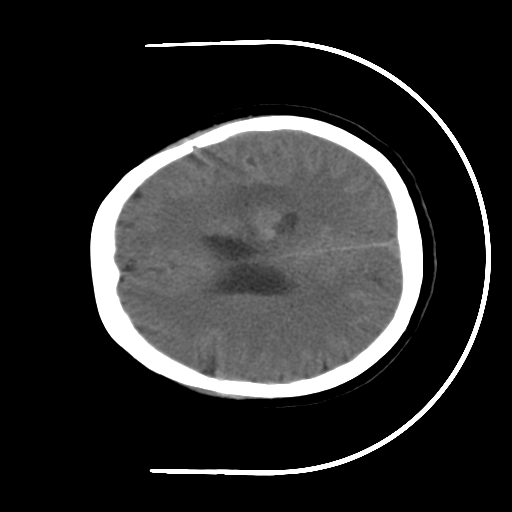a: (231, 189, 306, 260)
